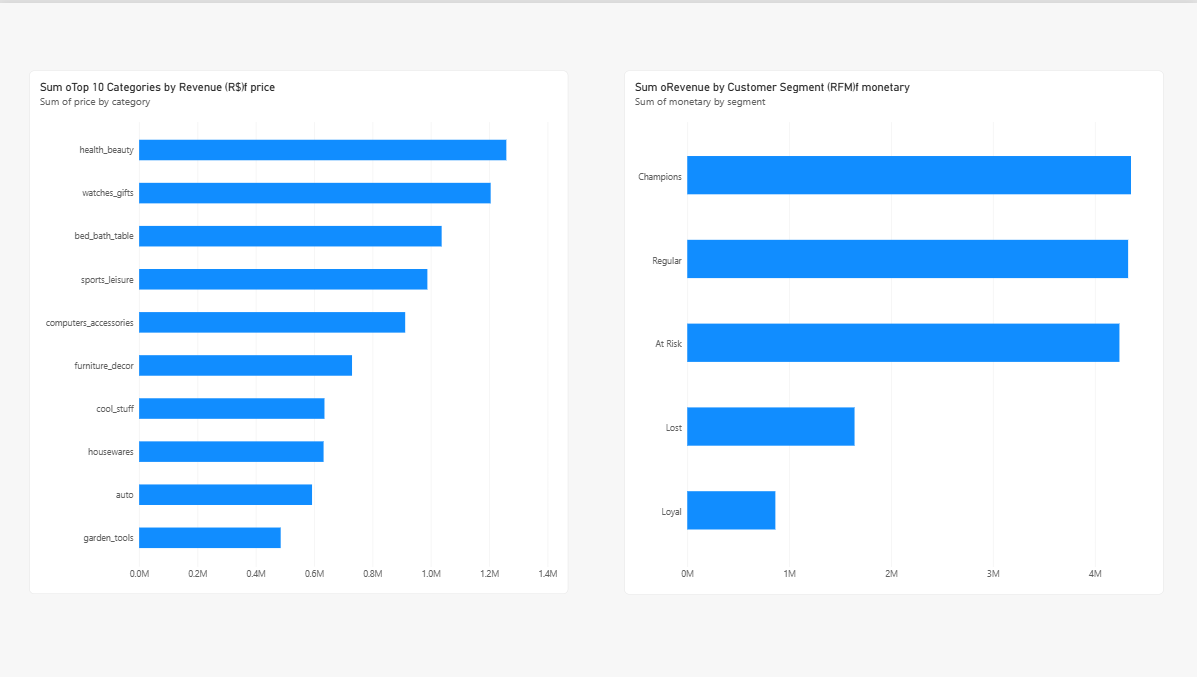

What the dashboard file says about the page in this screenshot:
{"tool":"powerbi","page":{"name":"Products & Customers","canvas":[1920,1080],"ordinal":1},"visuals":[{"type":"clusteredBarChart","title":"Sum oTop 10 Categories by Revenue (R$)f price","fields":{"Category":["category_revenue.category"],"Y":["Sum(category_revenue.price)"]},"box":[50,107.5,862.5,837.5],"z":0},{"type":"clusteredBarChart","title":"Sum oRevenue by Customer Segment (RFM)f monetary","fields":{"Category":["rfm_segments.segment"],"Y":["Sum(rfm_segments.monetary)"]},"box":[1002.5,107.5,863,838],"z":1}]}

Visuals, with their boxes in screenshot pixels (x1, y1, x2, y2), scaled from the page's 1920x1080 canvas onto the 1197x677 screenshot:
"Sum oTop 10 Categories by Revenue (R$)f price" clusteredBarChart: bbox=[31, 67, 569, 592]
"Sum oRevenue by Customer Segment (RFM)f monetary" clusteredBarChart: bbox=[625, 67, 1163, 593]
